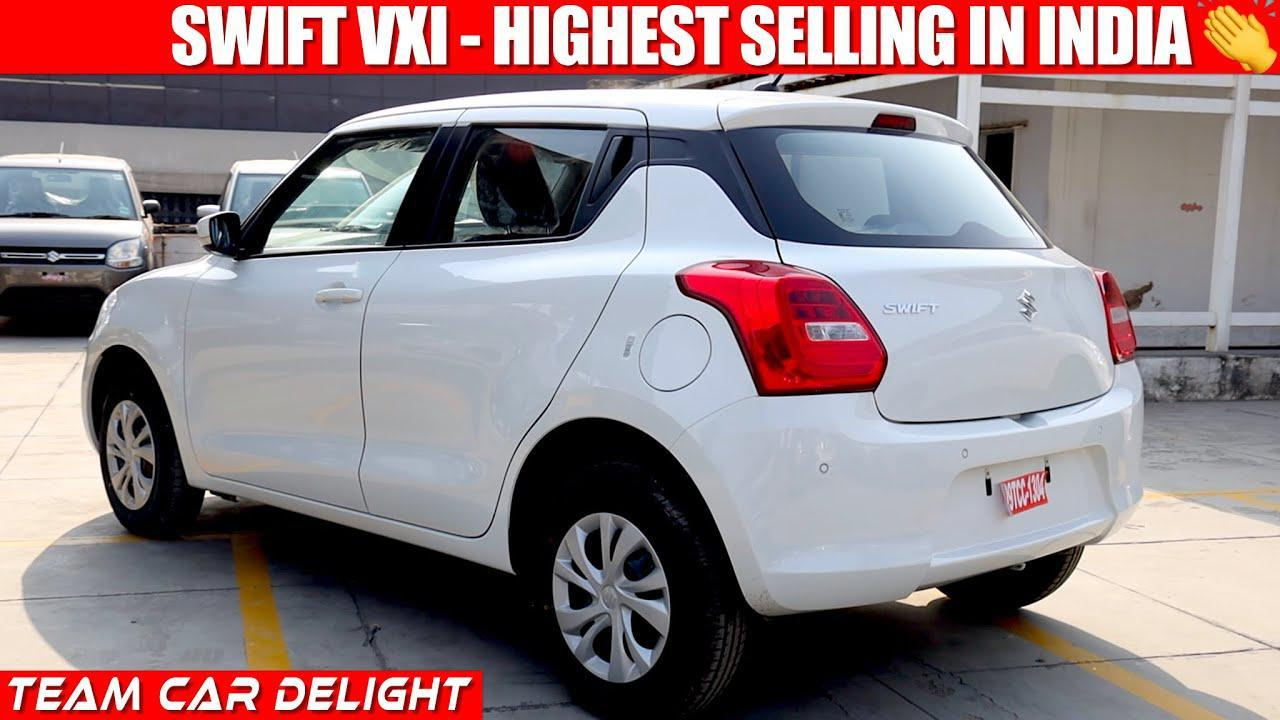Hatchback: (75, 78, 1159, 711), (1, 151, 157, 331), (191, 148, 374, 229)
